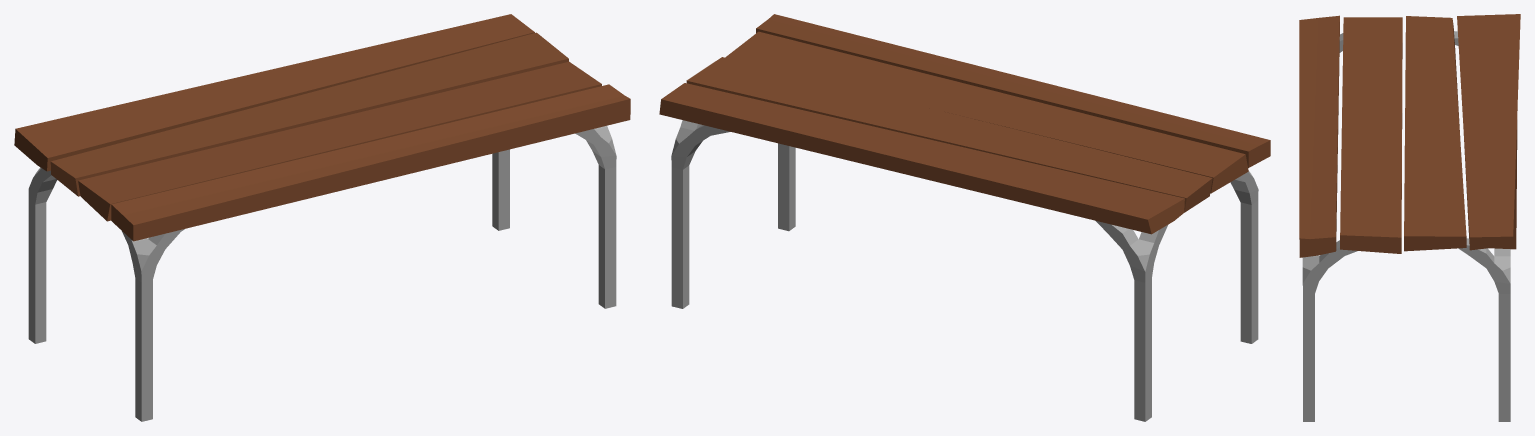
Rendered from tablemetalwood02.gltf.
3 renders of one model, left to right at view 1: azimuth 30°, elevation 25°; view 2: azimuth 150°, elevation 25°; view 3: azimuth 270°, elevation 25°, orthographic. The views are drawn at different scales.
Visible parts, largest first — view 1: Cube; view 2: Cube; view 3: Cube.
Part boxes in pixels (x1,y1,x2,y2): Cube: (14,14,630,421); Cube: (659,14,1270,421); Cube: (1299,14,1520,421).
Bounding box in the file's own units: 2.08 × 0.8281 × 0.8671.
Materials: 1 (1 with a texture image).
